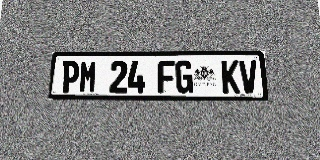2: (110, 60, 128, 93)
4: (127, 60, 145, 93)
F: (158, 60, 175, 93)
G: (175, 60, 193, 93)
K: (221, 60, 240, 93)
M: (78, 60, 97, 93)
P: (61, 60, 80, 93)
V: (239, 60, 258, 93)
